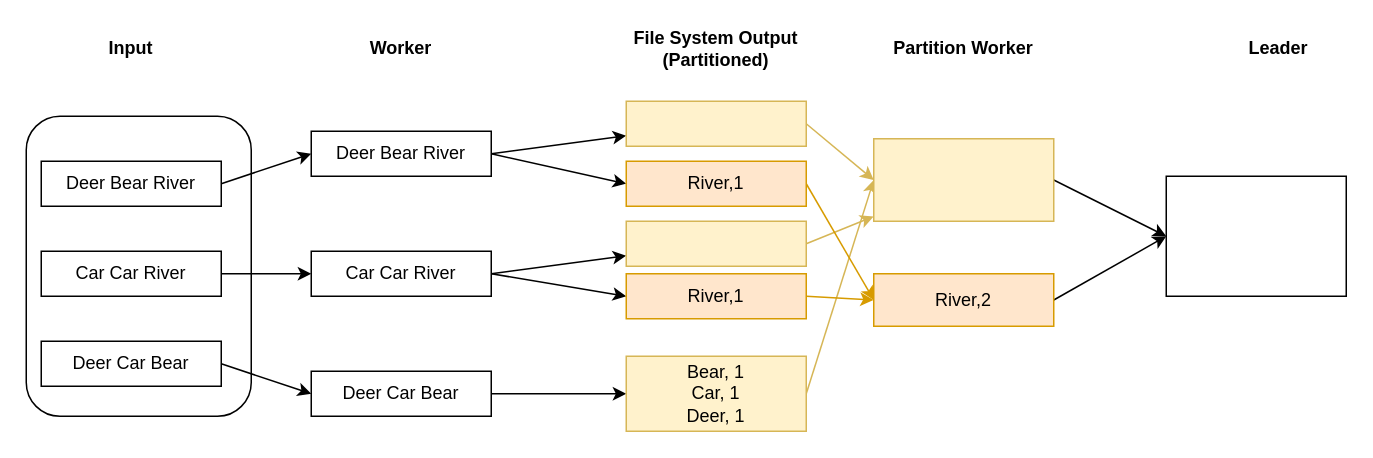
Image size: 1373x458. Some labels were removed from this diagram. Here are the shapes that lost their labels. From the top down, the centre of each, then its label:
At (x=715, y=123): "Bear, 1 Deer, 1".
At (x=963, y=179): "Bear, 2 Car, 3 Deer, 2".
At (x=715, y=243): "Car, 2".
At (x=1255, y=235): "Bear, 2 Car, 3 Deer, 2 River, 2".
